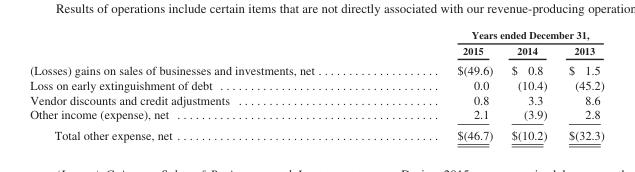table: (29, 28, 603, 141)
table column: (29, 28, 385, 141), (385, 28, 501, 141), (501, 28, 557, 141), (557, 28, 603, 141)
table column header: (29, 28, 603, 59)
table row: (29, 59, 603, 77), (29, 106, 603, 124), (29, 42, 603, 59), (29, 124, 603, 141), (29, 77, 603, 92), (29, 28, 603, 42), (29, 92, 603, 106)
table spanning cell: (385, 28, 603, 42)
